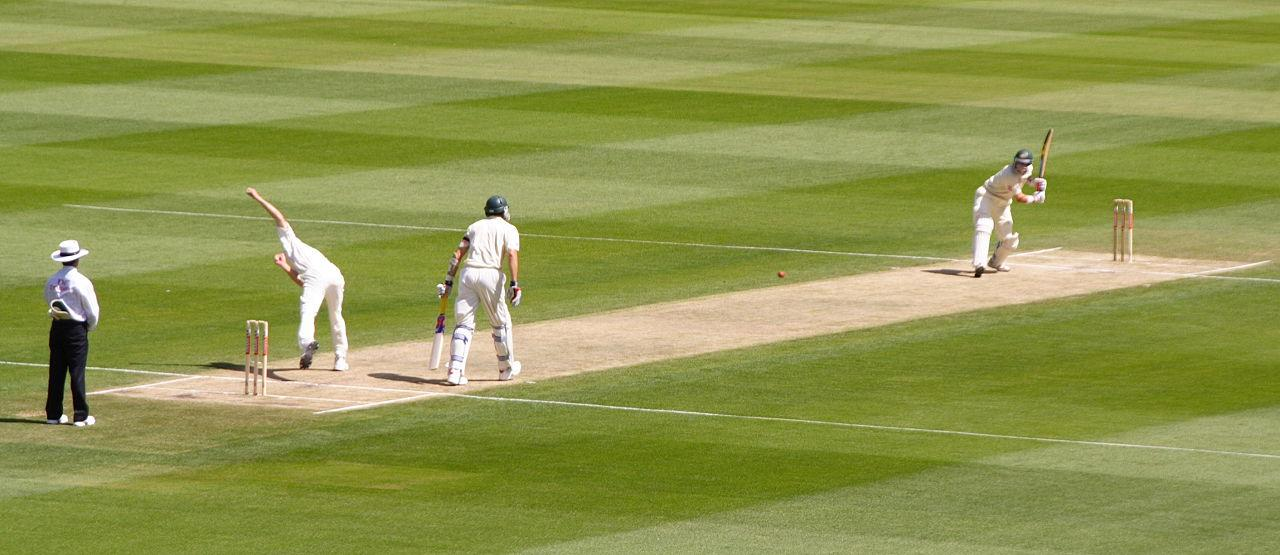batsman: (971, 129, 1054, 278)
